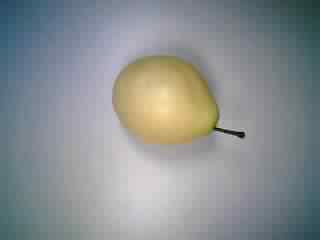pear: (102, 51, 251, 159)
